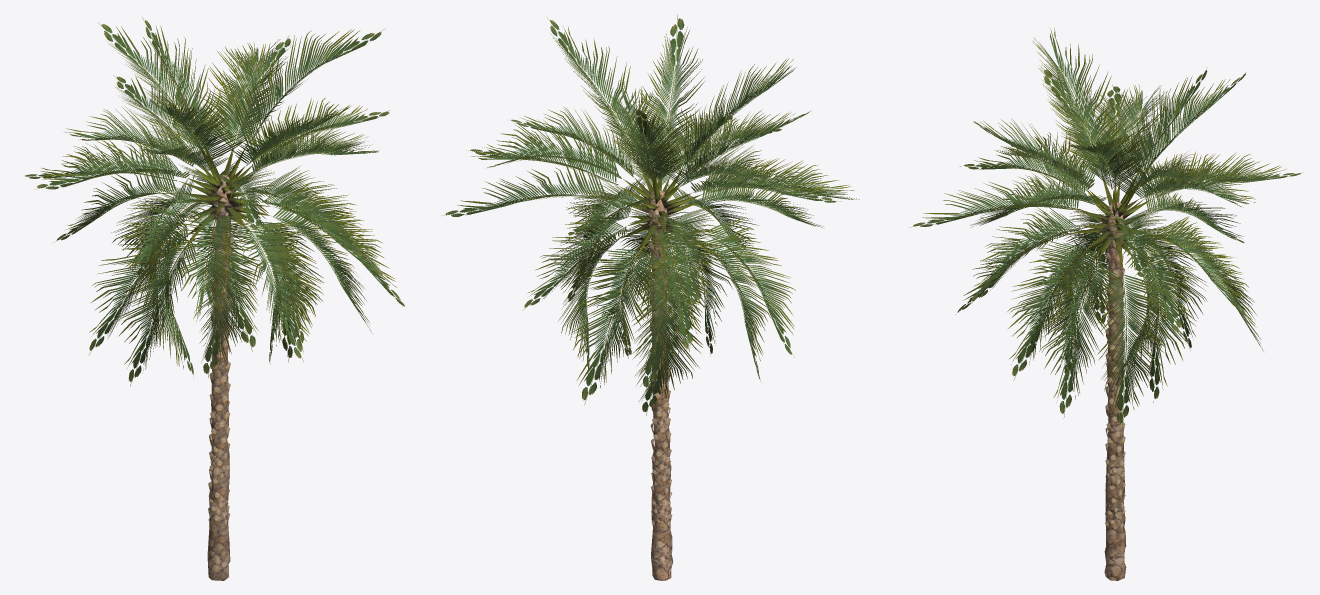
The model's file is datepalm-far.glb.
3 views of the same model, side by side, from view 1: azimuth 30°, elevation 25°; view 2: azimuth 150°, elevation 25°; view 3: azimuth 270°, elevation 25° (orthographic). The views are drawn at different scales.
Parts seen in each view (by area): view 1: Tree_1, Tree_0, Tree_3, Tree_2; view 2: Tree_1, Tree_0, Tree_3, Tree_2; view 3: Tree_1, Tree_0, Tree_3, Tree_2.
Part boxes in pixels (x1,y1,x2,y2): Tree_1: [25, 17, 404, 386]; Tree_0: [207, 174, 231, 580]; Tree_3: [177, 132, 270, 264]; Tree_2: [208, 227, 231, 527]; Tree_1: [442, 14, 859, 415]; Tree_0: [649, 190, 673, 580]; Tree_3: [610, 164, 715, 266]; Tree_2: [649, 242, 672, 529]; Tree_1: [909, 28, 1303, 427]; Tree_0: [1104, 202, 1126, 580]; Tree_3: [1072, 165, 1180, 270]; Tree_2: [1105, 252, 1125, 531].
Size of the model in its own units: 5.46 by 7.34 by 5.21.
Materials: 4 (4 with a texture image).
